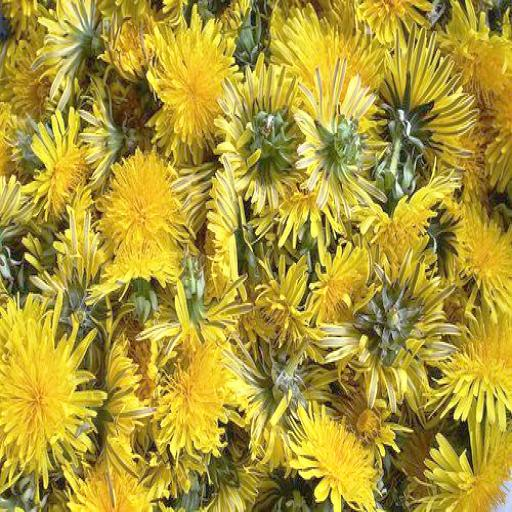dandelion: (368, 34, 470, 190), (332, 248, 437, 394), (94, 139, 195, 289), (146, 308, 246, 455), (221, 65, 318, 203), (299, 78, 387, 210), (287, 402, 384, 512), (418, 411, 512, 512), (32, 116, 112, 210), (430, 328, 512, 418), (457, 196, 512, 304)
